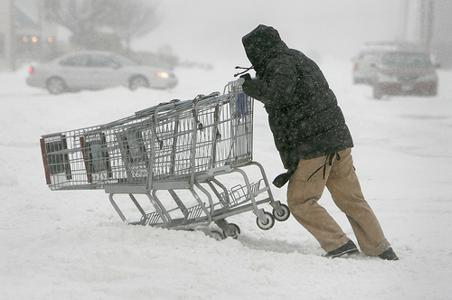person: (239, 23, 403, 264)
